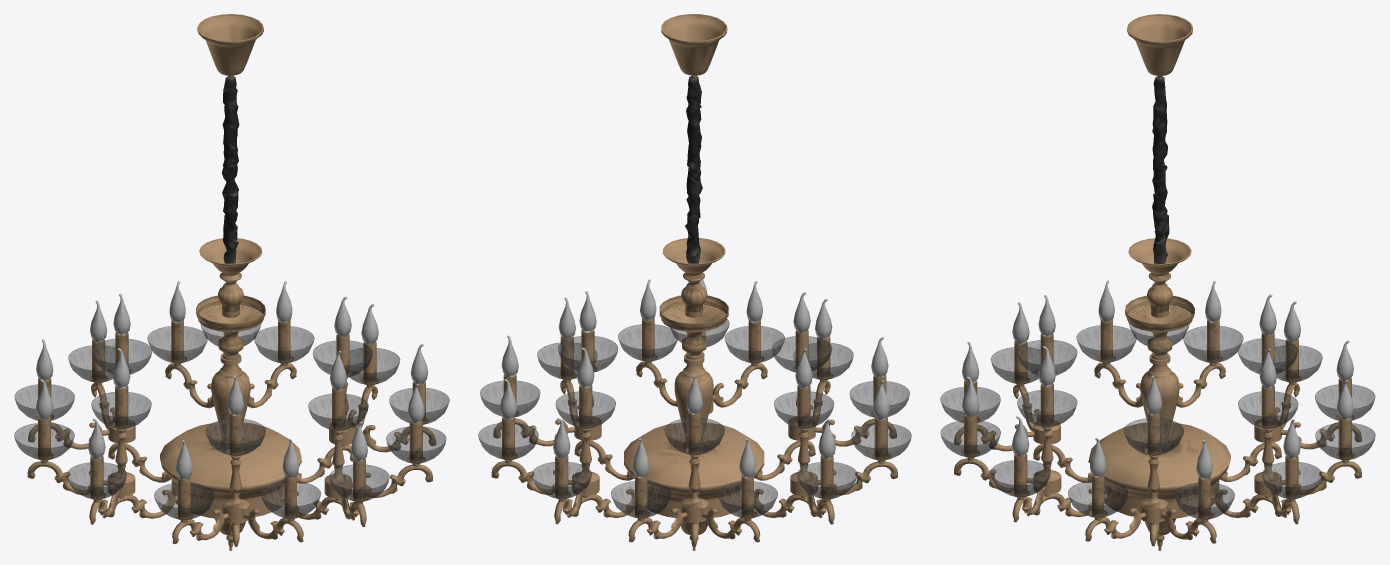
The model's file is Chandelier_03_2k.gltf.
3 renders of one model, left to right at view 1: azimuth 30°, elevation 25°; view 2: azimuth 150°, elevation 25°; view 3: azimuth 270°, elevation 25°, orthographic.
Parts seen in each view (by area): view 1: Chandelier_03; view 2: Chandelier_03; view 3: Chandelier_03.
Part boxes in pixels (box(x1,y1,x2,y2)): Chandelier_03: box(14, 14, 449, 550); Chandelier_03: box(478, 14, 911, 550); Chandelier_03: box(940, 14, 1375, 550).
Bounding box in the file's own units: 0.7804 × 1.04 × 0.7855.
2 materials, 2 textured.
